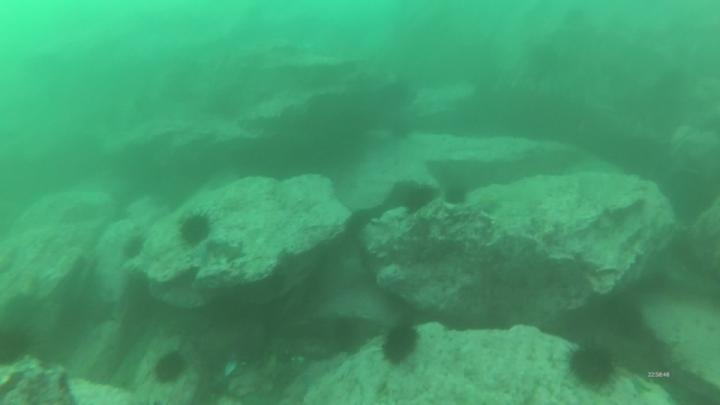echinus: (576, 342, 615, 387), (332, 317, 371, 351), (387, 328, 418, 365), (155, 356, 183, 382), (183, 215, 209, 243), (444, 184, 468, 206), (406, 189, 431, 210), (124, 239, 141, 256)
